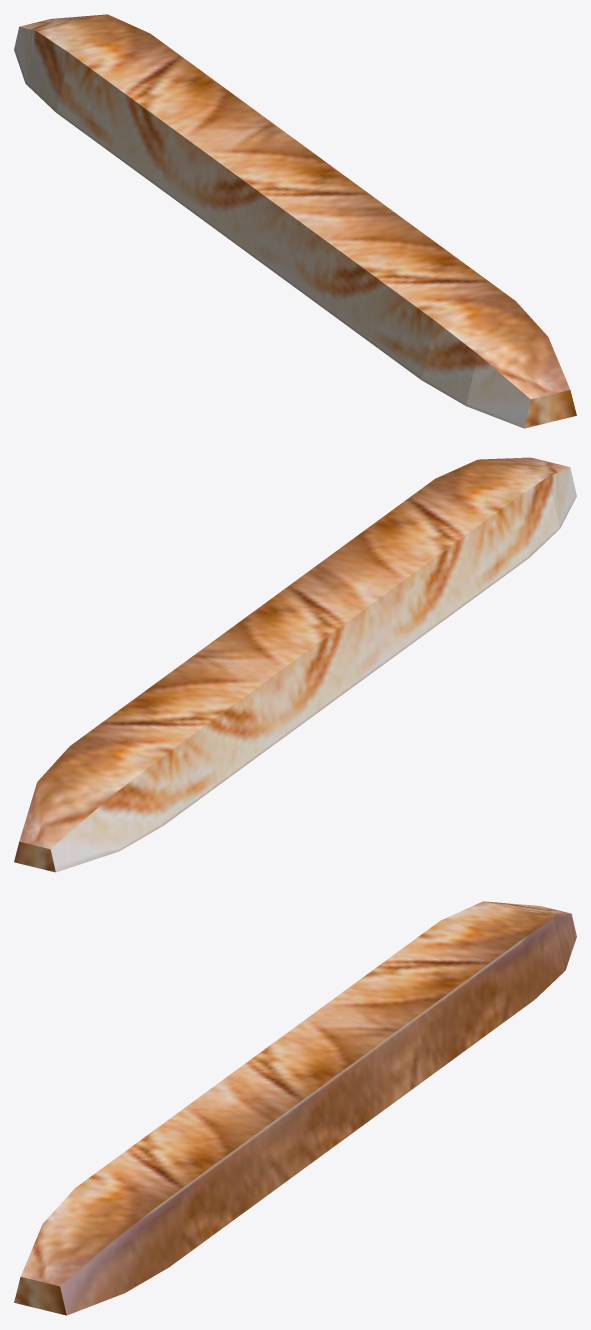
File: Bread02.obj
3 renders of one model, top to bottom at view 1: azimuth 30°, elevation 25°; view 2: azimuth 150°, elevation 25°; view 3: azimuth 330°, elevation 25°, orthographic.
Parts seen in each view (by area): view 1: Bread02; view 2: Bread02; view 3: Bread02.
Part boxes in pixels (x1,y1,x2,y2): Bread02: (14,14,576,428); Bread02: (14,457,576,872); Bread02: (14,901,576,1315).
Size of the model in its own units: 0.06 by 0.03 by 0.498.
